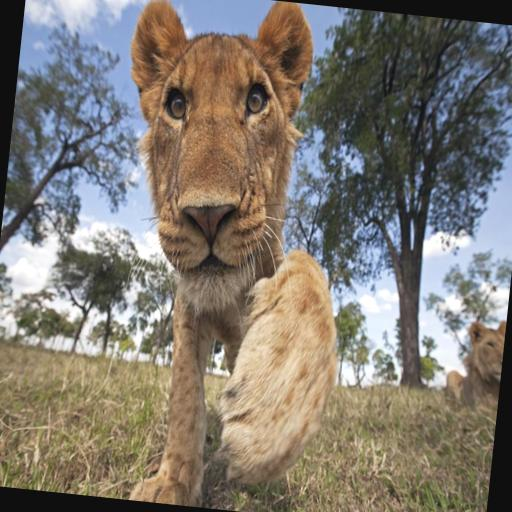lions: (79, 0, 402, 512)
